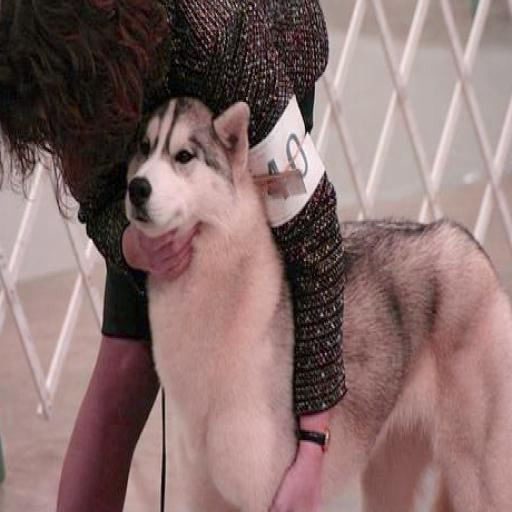dog_face: (130, 95, 243, 236)
